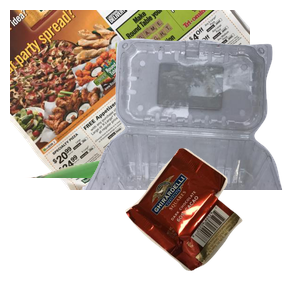glass: (23, 120, 263, 300)
paper: (10, 10, 250, 190)
plastic: (80, 36, 300, 216)
trash: (123, 145, 300, 300)
